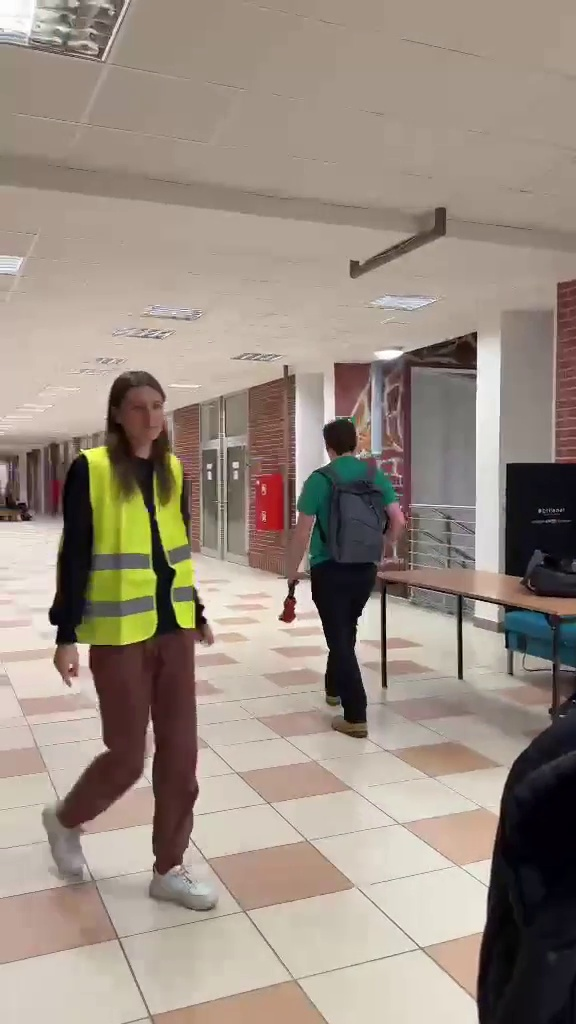no vest: (281, 421, 407, 744)
vest: (28, 356, 230, 910)
